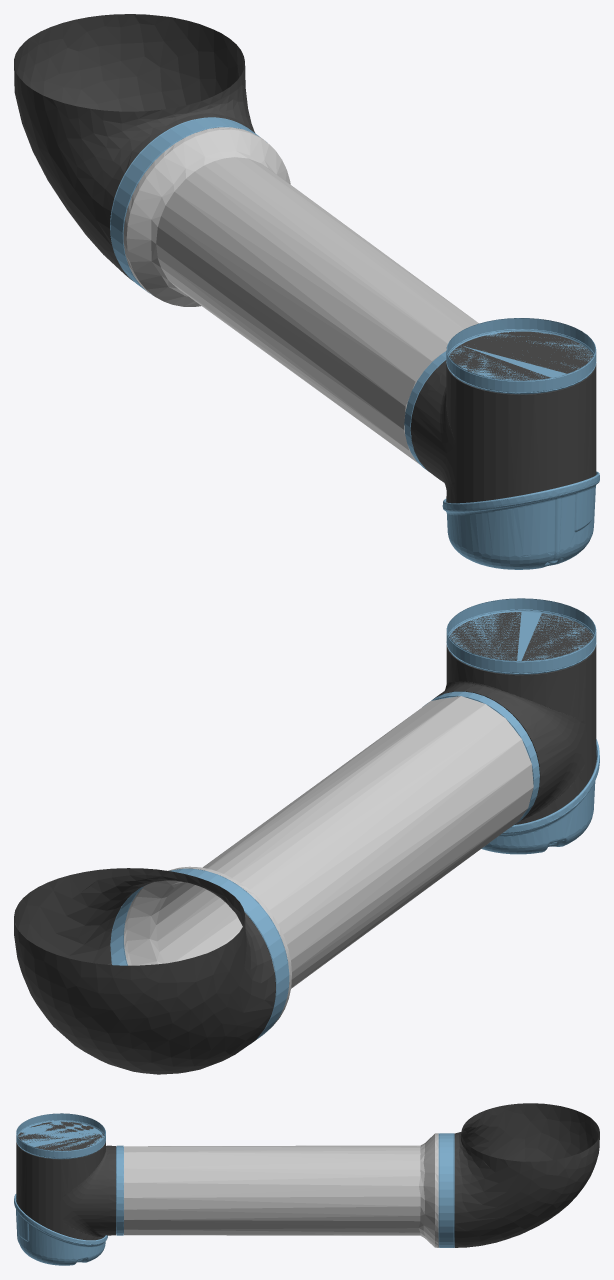
Rendered from forearm_4.obj.
The picture shows the model from 3 angles, top to bottom: view 1: azimuth 30°, elevation 25°; view 2: azimuth 150°, elevation 25°; view 3: azimuth 270°, elevation 25°; orthographic projection. The views are drawn at different scales.
Parts seen in each view (by area): view 1: eSeries_UR5e_079-mesh, eSeries_UR5e_077-mesh, eSeries_UR5e_028-mesh, eSeries_UR5e_081-mesh, eSeries_UR5e_082-mesh, eSeries_UR5e_078-mesh, eSeries_UR5e_080-mesh; view 2: eSeries_UR5e_079-mesh, eSeries_UR5e_077-mesh, eSeries_UR5e_028-mesh, eSeries_UR5e_082-mesh, eSeries_UR5e_078-mesh, eSeries_UR5e_081-mesh, eSeries_UR5e_080-mesh; view 3: eSeries_UR5e_079-mesh, eSeries_UR5e_077-mesh, eSeries_UR5e_028-mesh, eSeries_UR5e_082-mesh, eSeries_UR5e_081-mesh, eSeries_UR5e_078-mesh, eSeries_UR5e_080-mesh.
Part boxes in pixels (x1,y1,x2,y2): eSeries_UR5e_079-mesh: (123,127,478,464); eSeries_UR5e_077-mesh: (14,14,254,281); eSeries_UR5e_028-mesh: (410,331,596,503); eSeries_UR5e_081-mesh: (442,471,599,569); eSeries_UR5e_082-mesh: (446,318,596,394); eSeries_UR5e_078-mesh: (110,117,259,295); eSeries_UR5e_080-mesh: (404,351,446,471); eSeries_UR5e_079-mesh: (124,696,533,1028); eSeries_UR5e_077-mesh: (14,868,275,1074); eSeries_UR5e_028-mesh: (434,612,596,824); eSeries_UR5e_082-mesh: (446,598,596,674); eSeries_UR5e_078-mesh: (110,868,289,1043); eSeries_UR5e_081-mesh: (481,739,599,854); eSeries_UR5e_080-mesh: (423,691,539,828); eSeries_UR5e_079-mesh: (124,1133,438,1247); eSeries_UR5e_077-mesh: (454,1103,599,1247); eSeries_UR5e_028-mesh: (16,1121,115,1240); eSeries_UR5e_082-mesh: (16,1113,105,1159); eSeries_UR5e_081-mesh: (14,1194,107,1265); eSeries_UR5e_078-mesh: (438,1133,454,1247); eSeries_UR5e_080-mesh: (116,1145,123,1235).
Size of the model in its own units: 0.1158 by 0.1099 by 0.4894.
